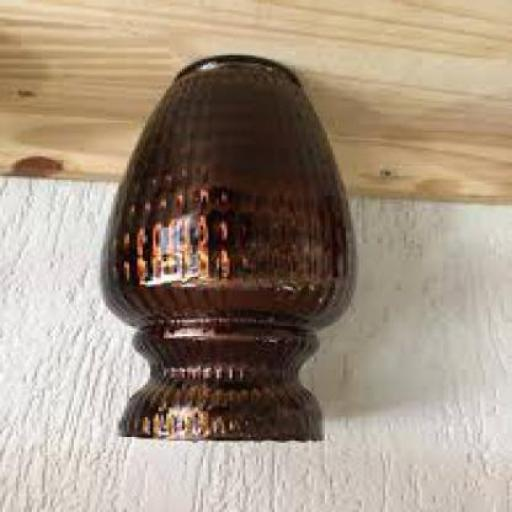glass: (100, 57, 354, 445)
